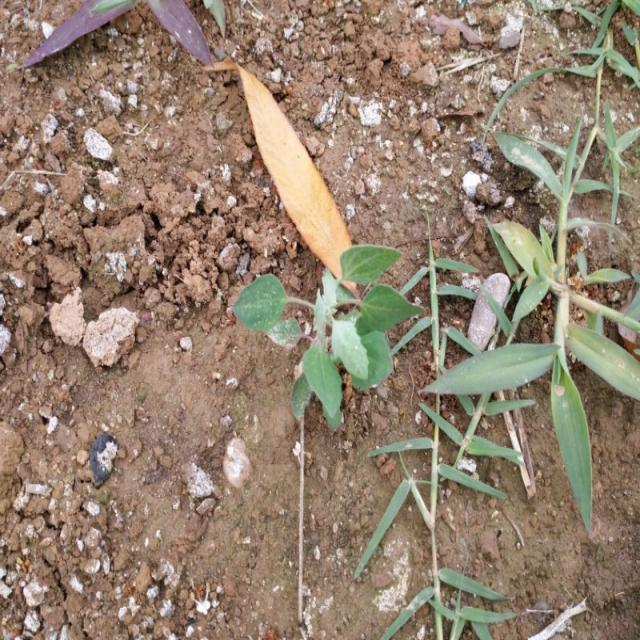ca: (231, 242, 428, 424)
